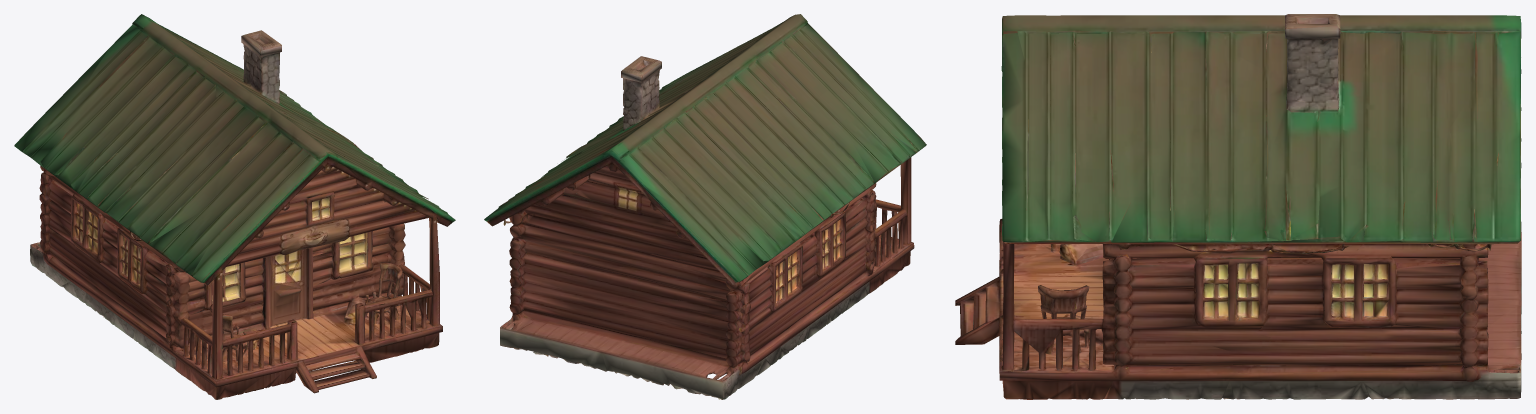
The model's file is cabin.glb.
3 renders of one model, left to right at view 1: azimuth 30°, elevation 25°; view 2: azimuth 150°, elevation 25°; view 3: azimuth 270°, elevation 25°, orthographic. The views are drawn at different scales.
Visible parts, largest first — view 1: Mesh_0; view 2: Mesh_0; view 3: Mesh_0.
Boxes of the visible parts, x1=… form: Mesh_0: x1=14, y1=14, x2=455, y2=399; Mesh_0: x1=484, y1=14, x2=926, y2=399; Mesh_0: x1=955, y1=14, x2=1521, y2=399.
Bounding box in the file's own units: 1.38 × 1.24 × 1.9.
Materials: 1 (1 with a texture image).
